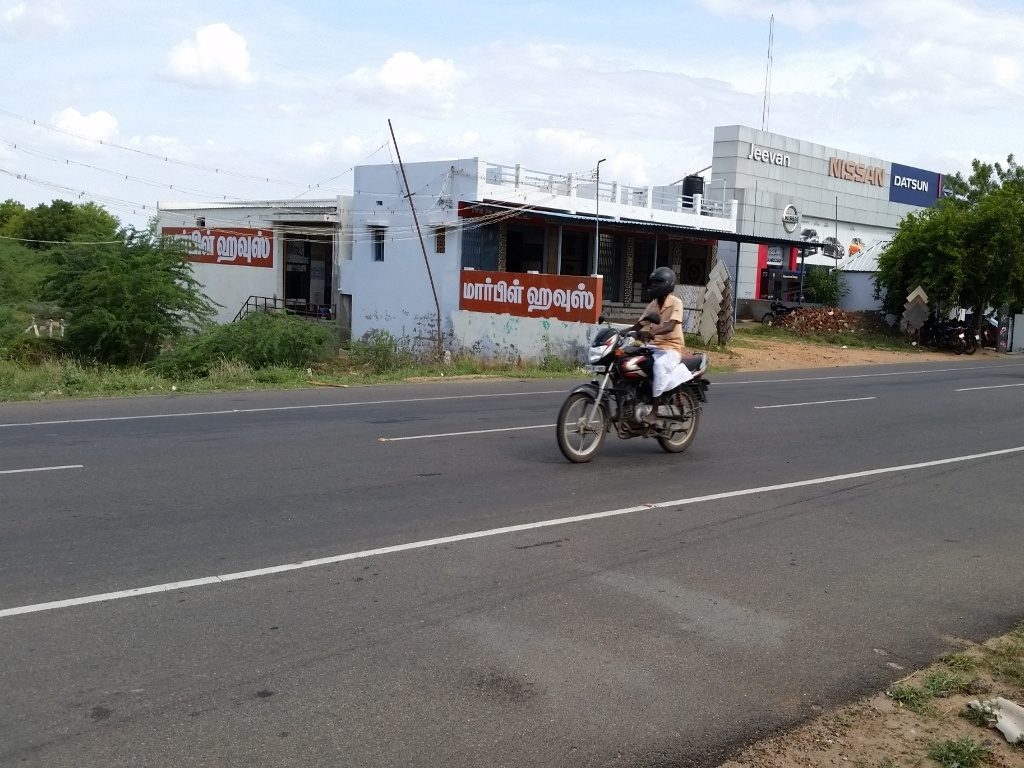biker: (542, 231, 722, 477)
helmet: (637, 258, 688, 312)
